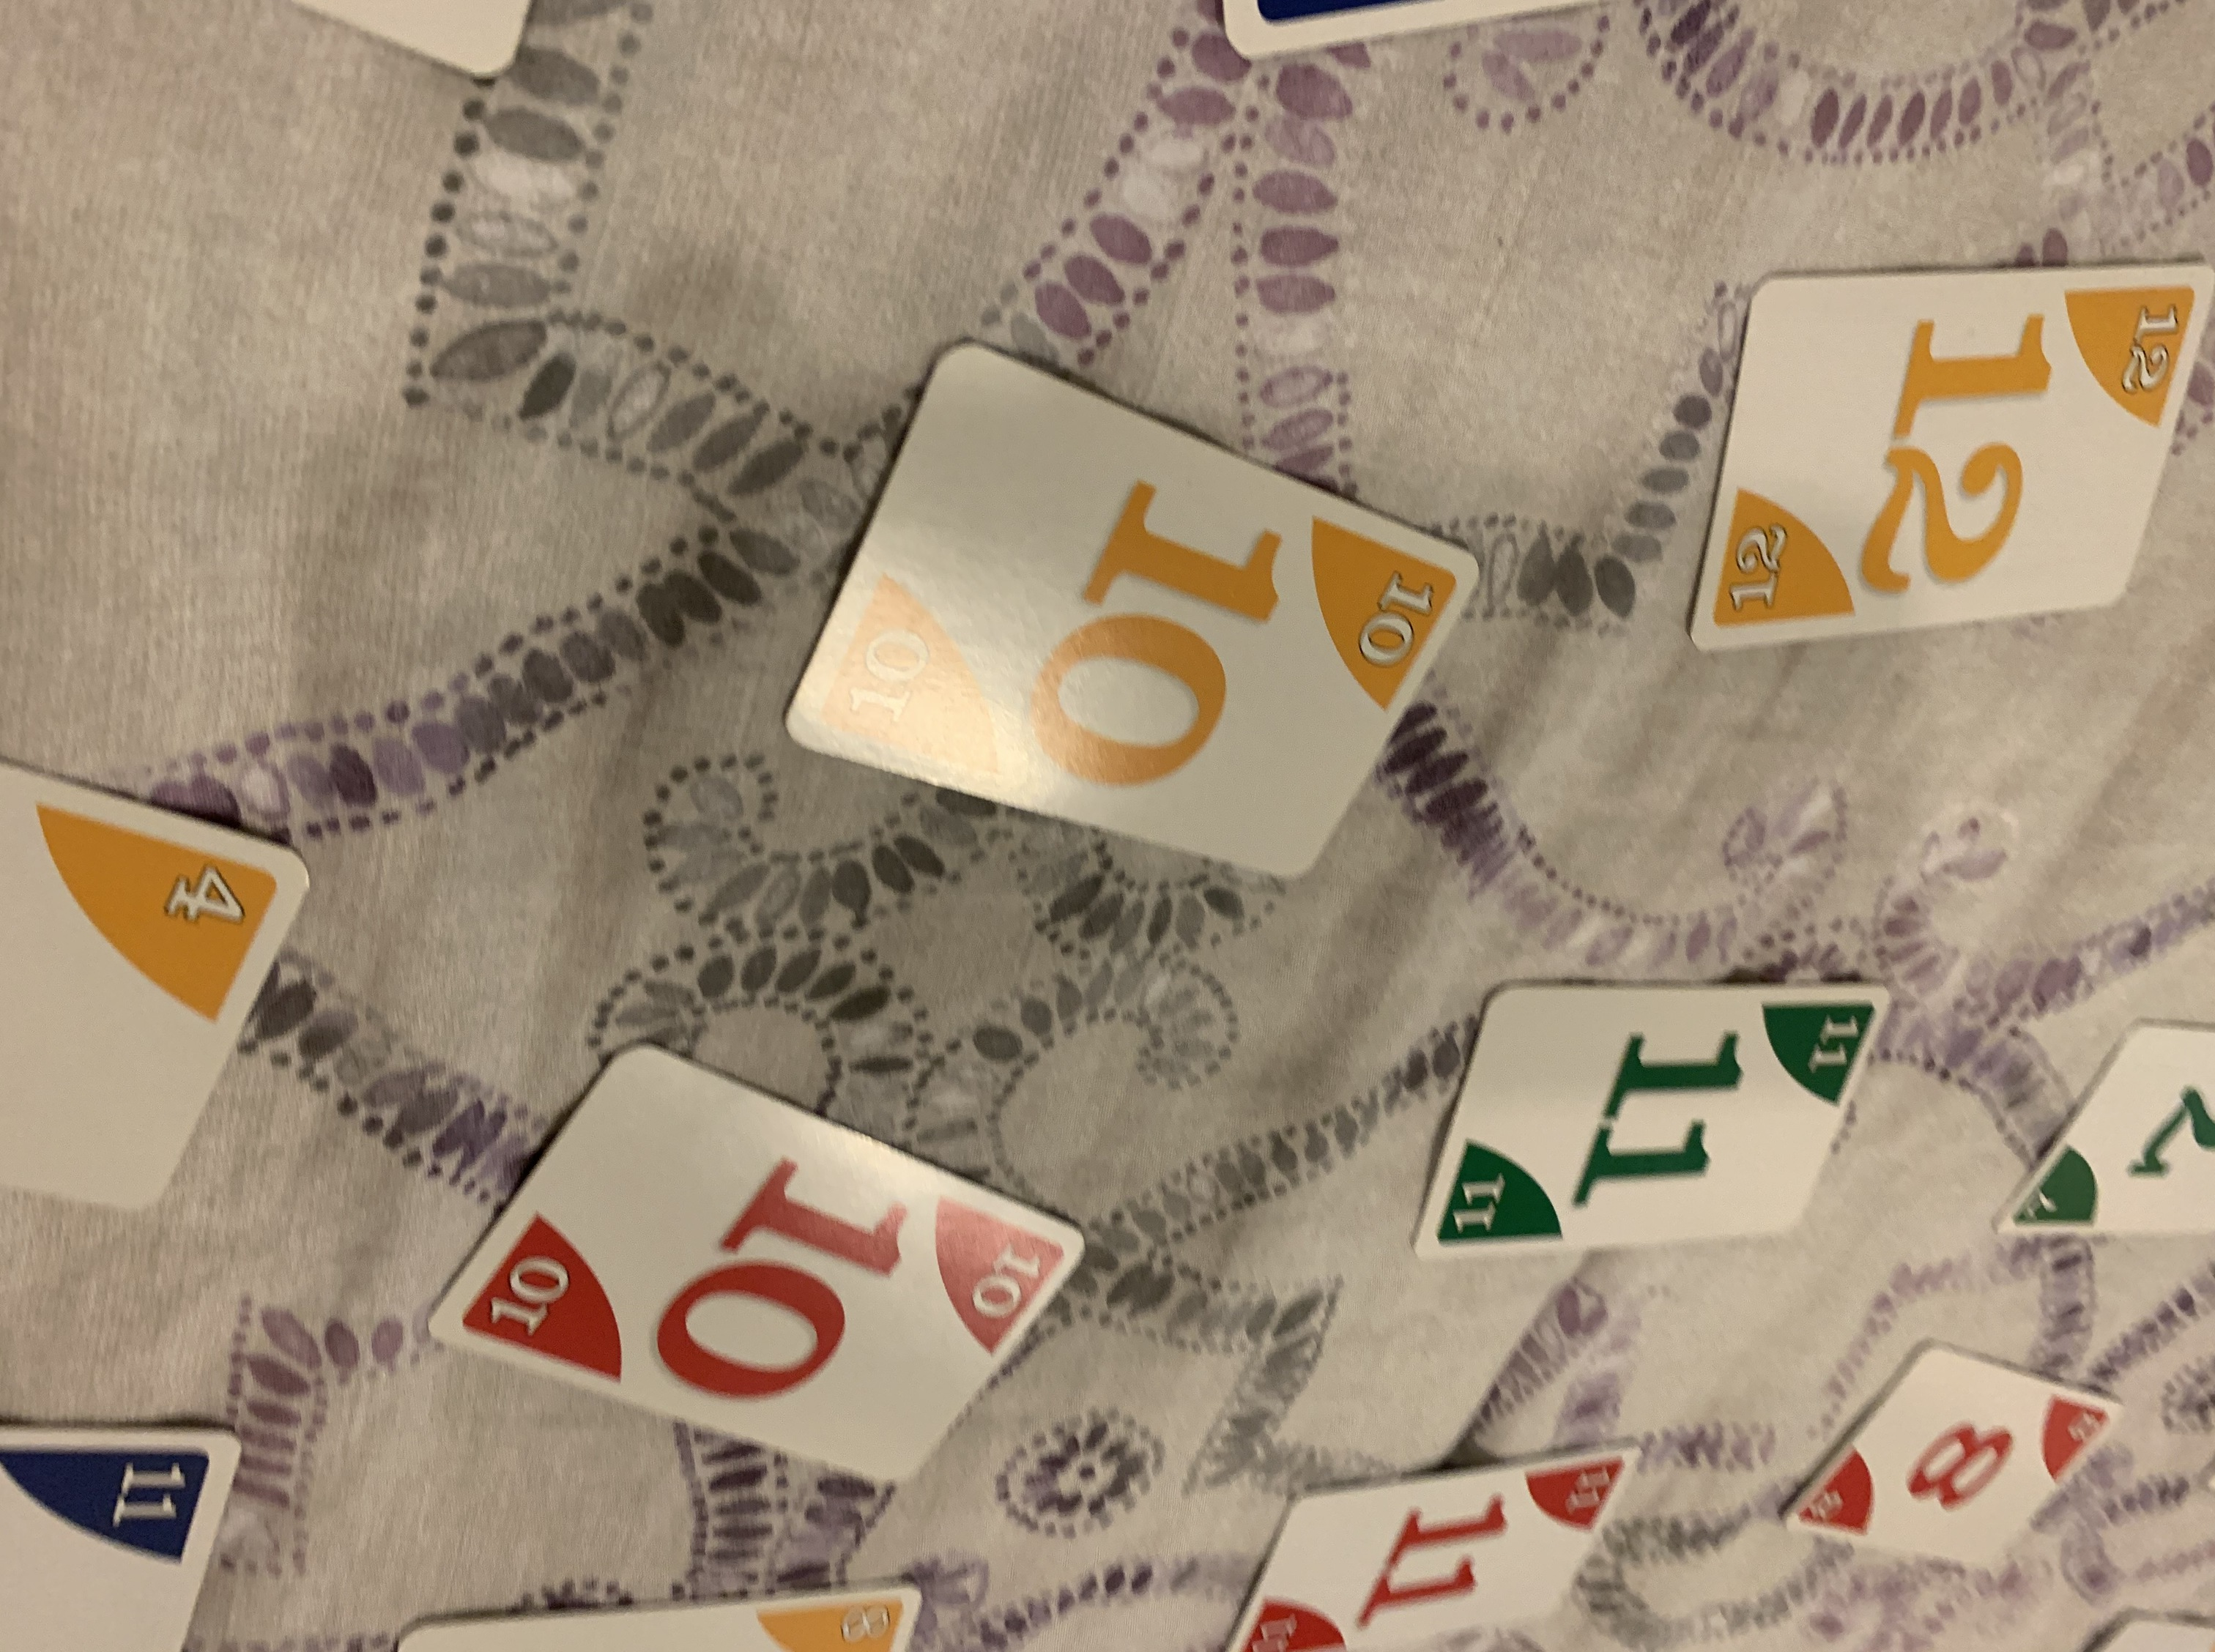eleven: (1408, 975, 1896, 1260)
ten: (774, 325, 1484, 883), (422, 1041, 1090, 1494)
twelve: (1691, 257, 2203, 661)
